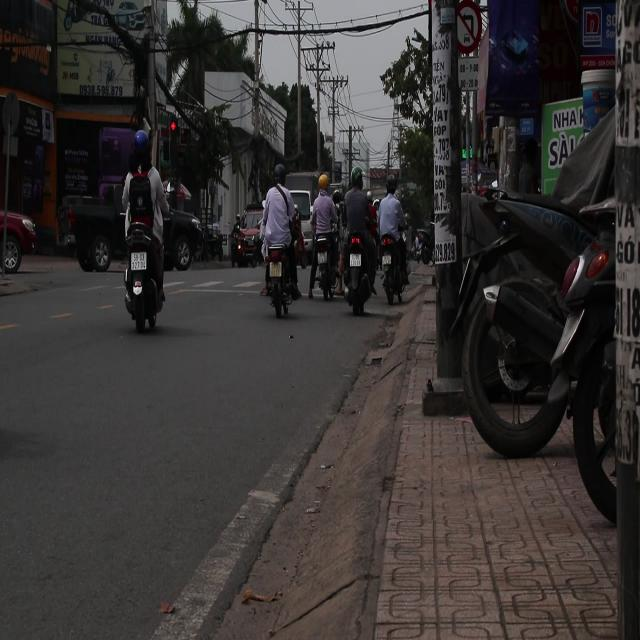car: (55, 182, 212, 286), (0, 200, 39, 275), (231, 216, 264, 268)
motorbike: (120, 191, 167, 335), (252, 208, 303, 331), (370, 215, 421, 337), (304, 222, 345, 328), (332, 224, 376, 319)
truck: (274, 174, 337, 266)
